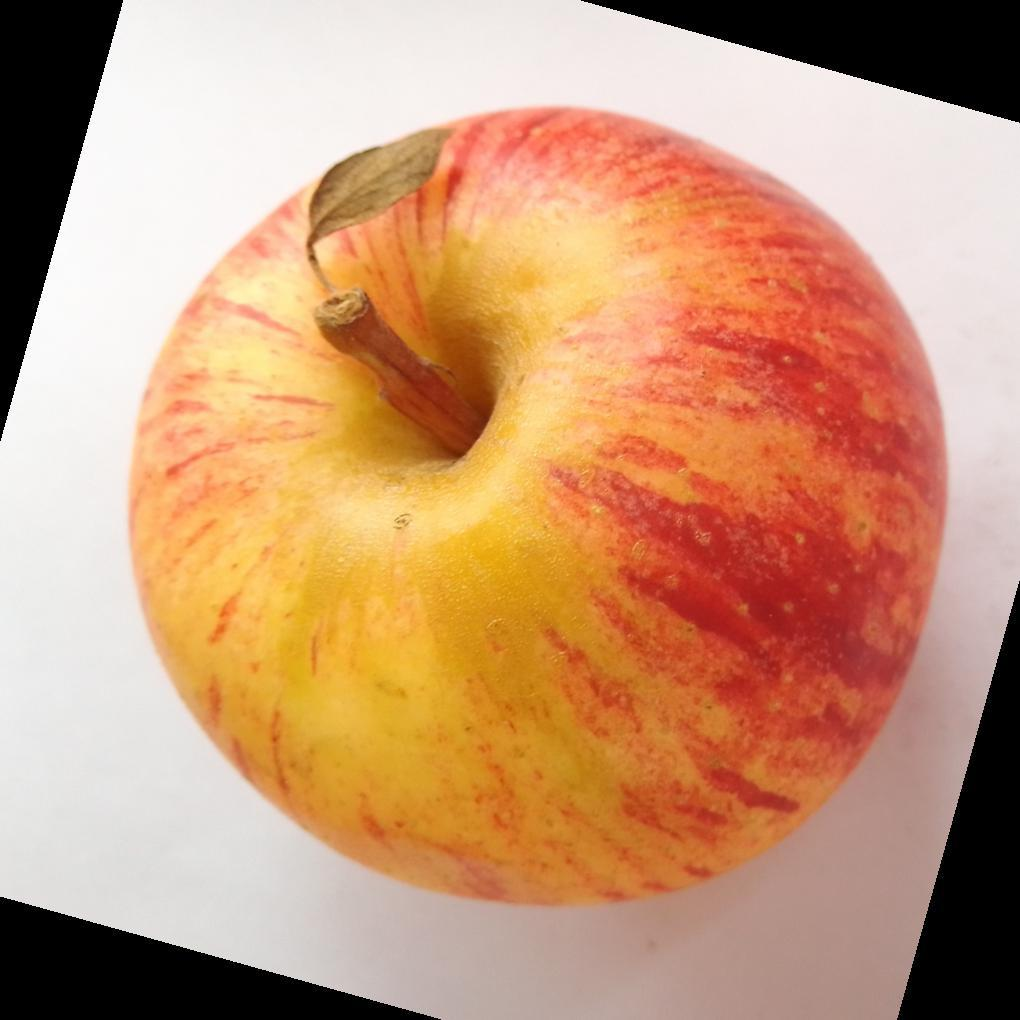FreshGuava: (124, 105, 951, 915)
